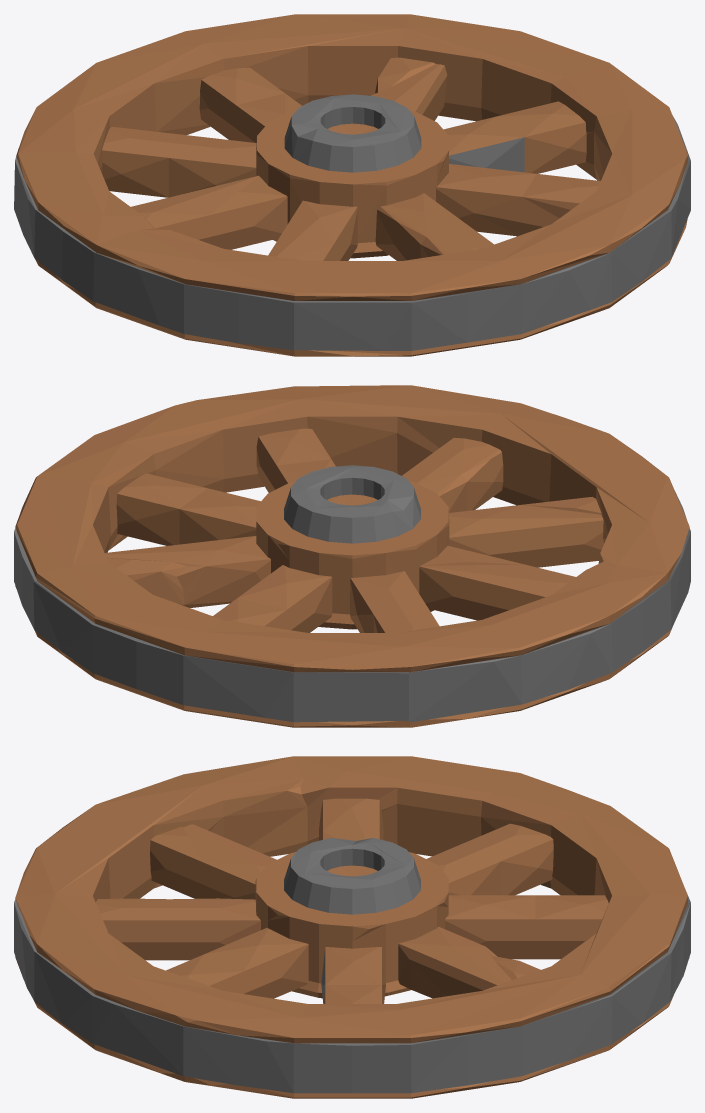
File: wheel.FBX
3 views of the same model, one above another, from view 1: azimuth 30°, elevation 25°; view 2: azimuth 150°, elevation 25°; view 3: azimuth 270°, elevation 25° (orthographic).
Visible parts, largest first — view 1: wheel; view 2: wheel; view 3: wheel.
Part boxes in pixels (box(x1,y1,x2,y2)): wheel: box(14, 14, 690, 356); wheel: box(14, 385, 690, 727); wheel: box(14, 756, 690, 1098).
Size of the model in its own units: 66.43 by 10.83 by 66.88.
